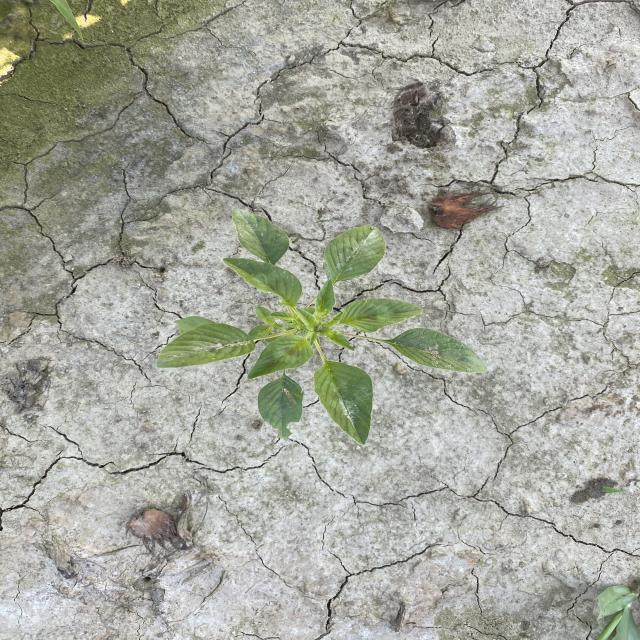PalmerAmaranth: (153, 208, 490, 446)
